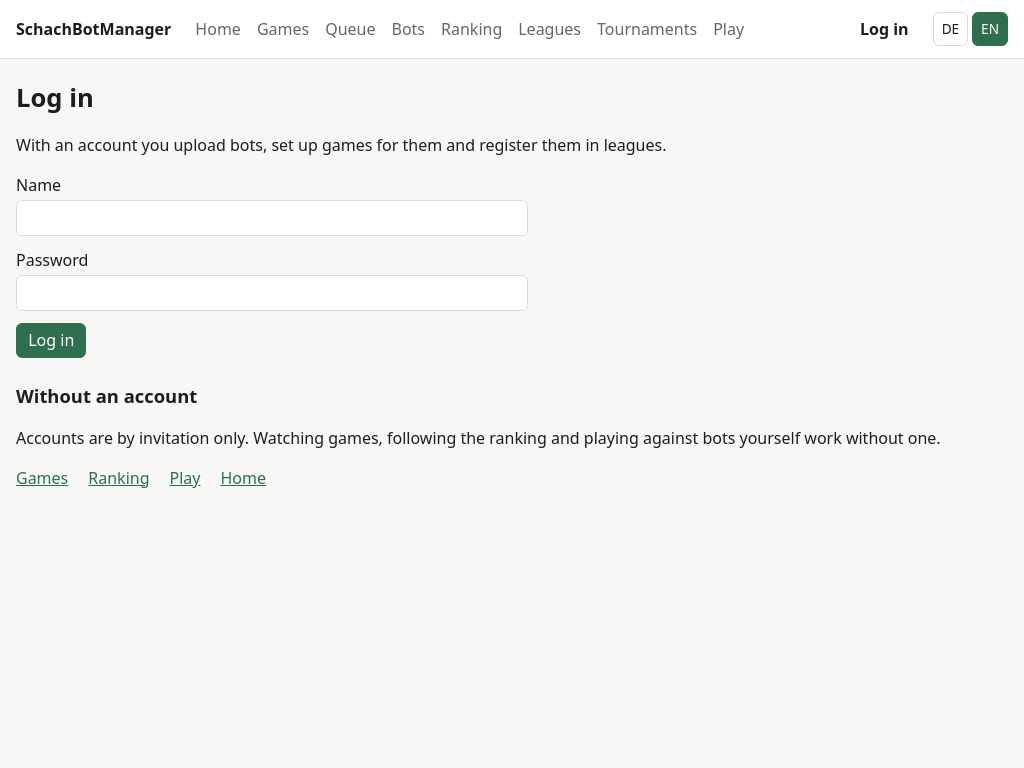
Test: login › shows wrong credentials
This screenshot has width=1024, height=768.
Type "bob" into the field labelled "Name".
click(272, 218); type("bob")  # box [16,200,528,236]
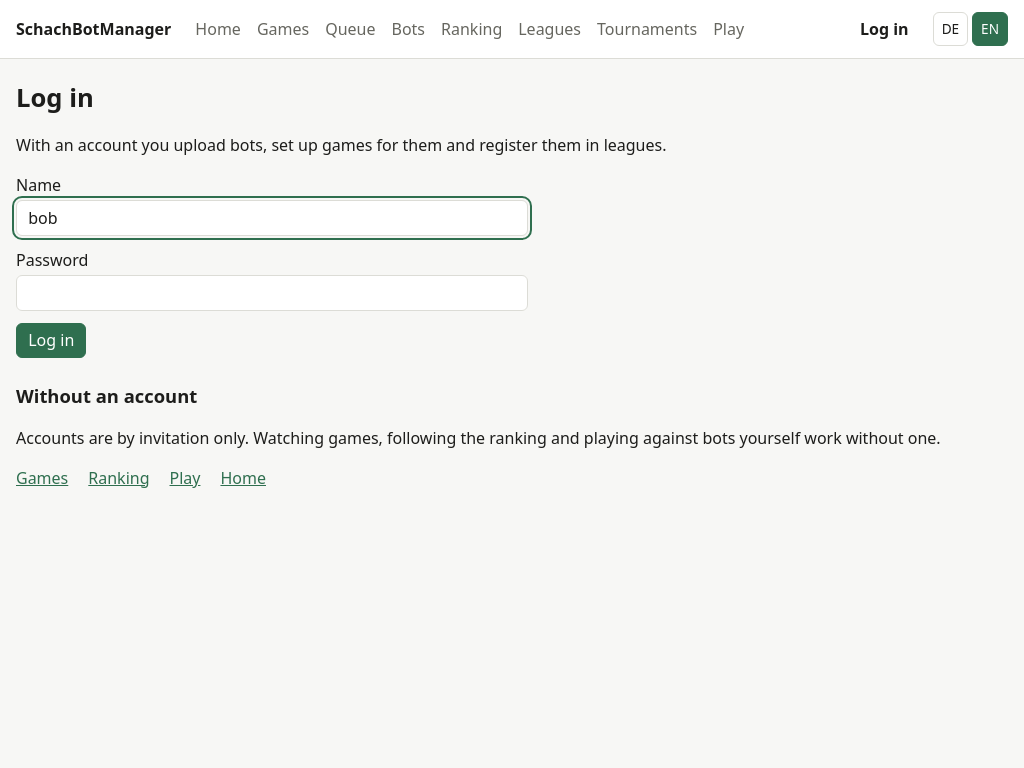
Type "wrong password" into the password field labelled "Password".
click(272, 293); type("wrong password")  # box [16,275,528,311]
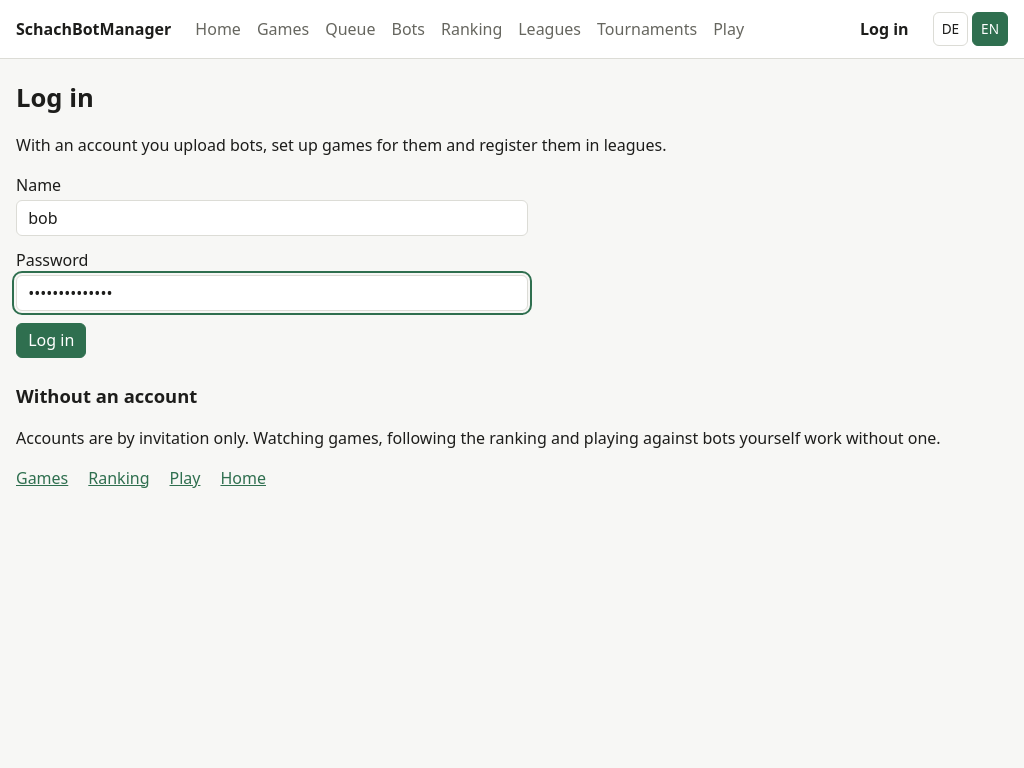
Click the button "Log in".
click(51, 340)  # box [16,322,86,358]
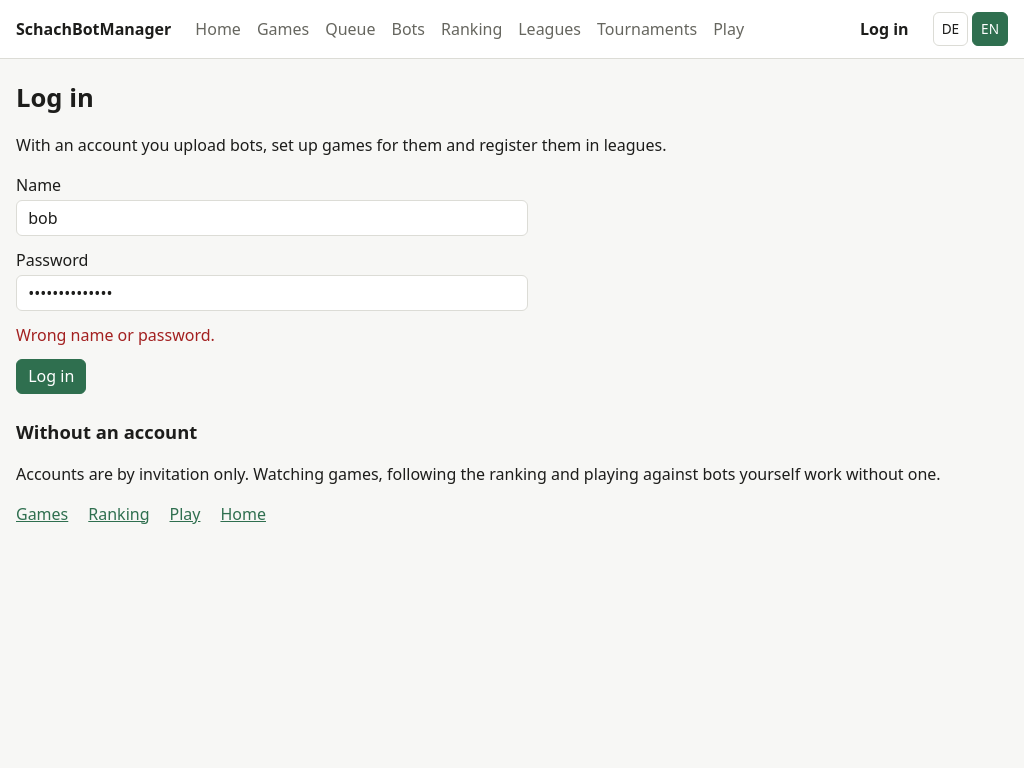
Result: the message reads "Wrong name or password." at [16,324,215,346]
